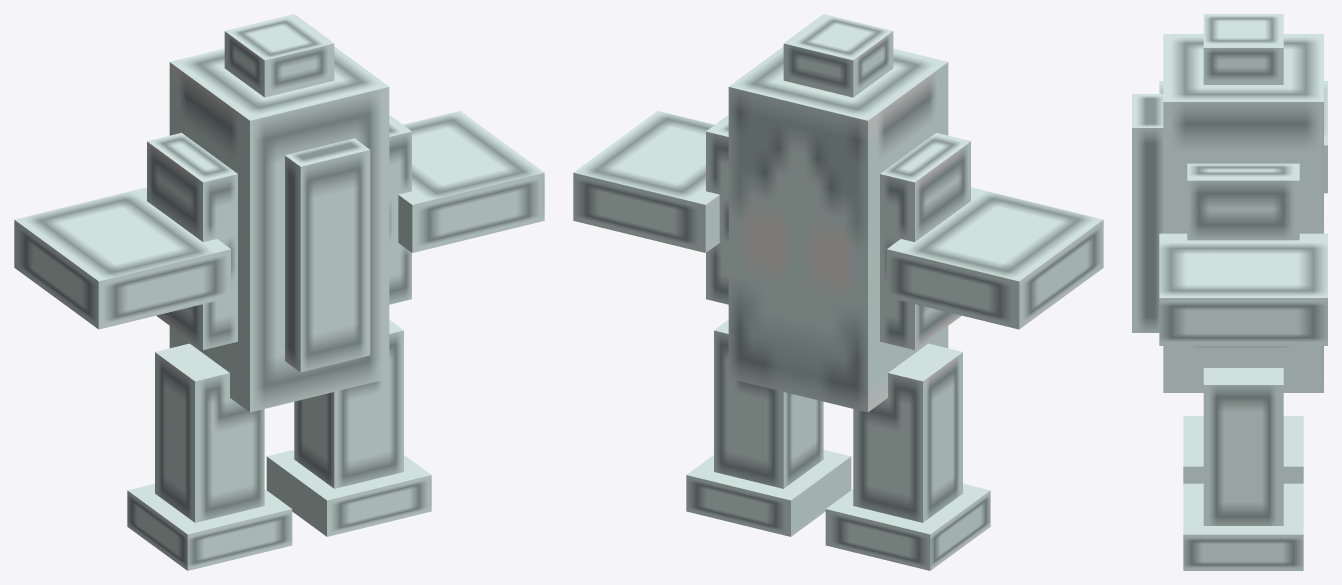
Rendered from Air_Boss.fbx.
The picture shows the model from 3 angles, left to right: view 1: azimuth 30°, elevation 25°; view 2: azimuth 150°, elevation 25°; view 3: azimuth 270°, elevation 25°; orthographic projection.
Visible parts, largest first — view 1: Boss; view 2: Boss; view 3: Boss.
Boxes of the visible parts, x1,y1,x2,y2 form: Boss: (14,14,544,570); Boss: (573,14,1103,570); Boss: (1132,14,1327,570).
Bounding box in the file's own units: 1280 × 1322 × 488.
